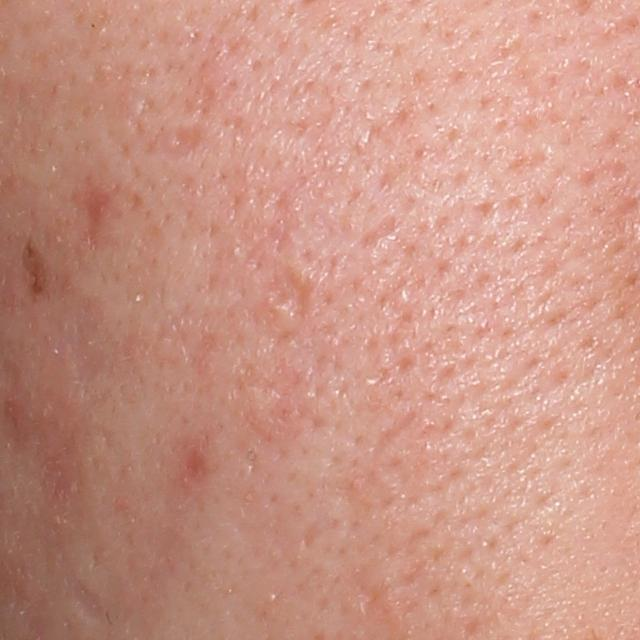atrophic_scar: (269, 264, 328, 321), (75, 173, 115, 254), (61, 569, 113, 623), (155, 118, 207, 163), (358, 212, 399, 252)
